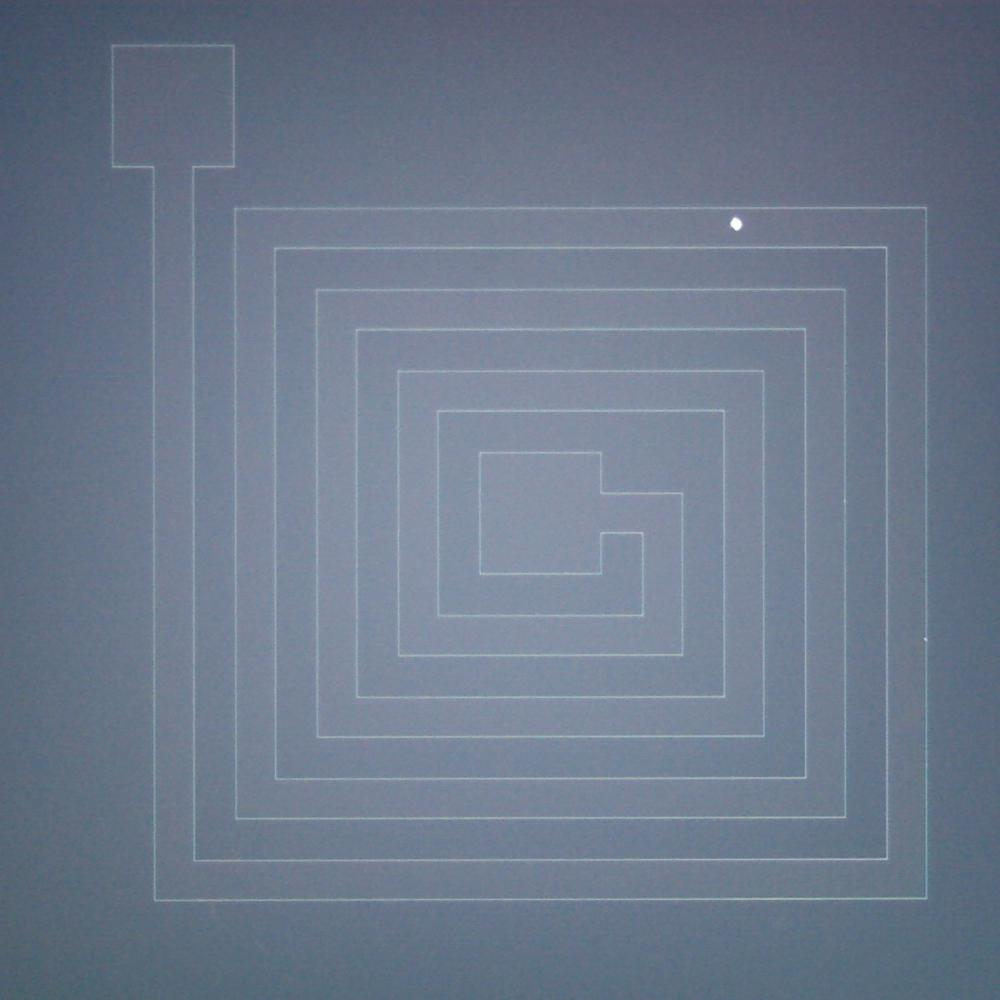dot: (728, 217, 743, 231)
